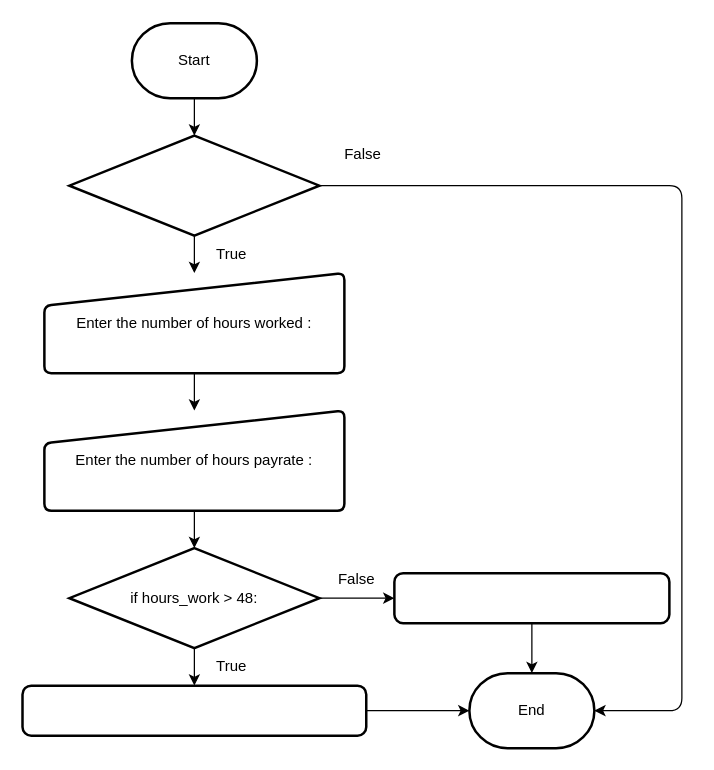
The diagram is 714 pixels wide and 770 high, and some of its shapes have lost their labels. Each missing label, with the box of its shape:
gross_pay = ((40*pay_rate))+((hours_work)*30): (21, 684, 367, 736)
gross_pay = (hours_work*pay_rate): (392, 571, 670, 624)
if __name__ == "main": (68, 134, 320, 236)
